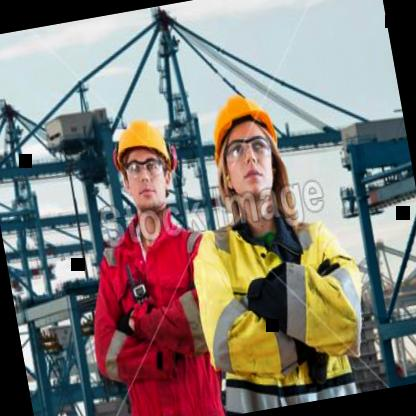helmet: (198, 90, 294, 230), (96, 112, 186, 225)
